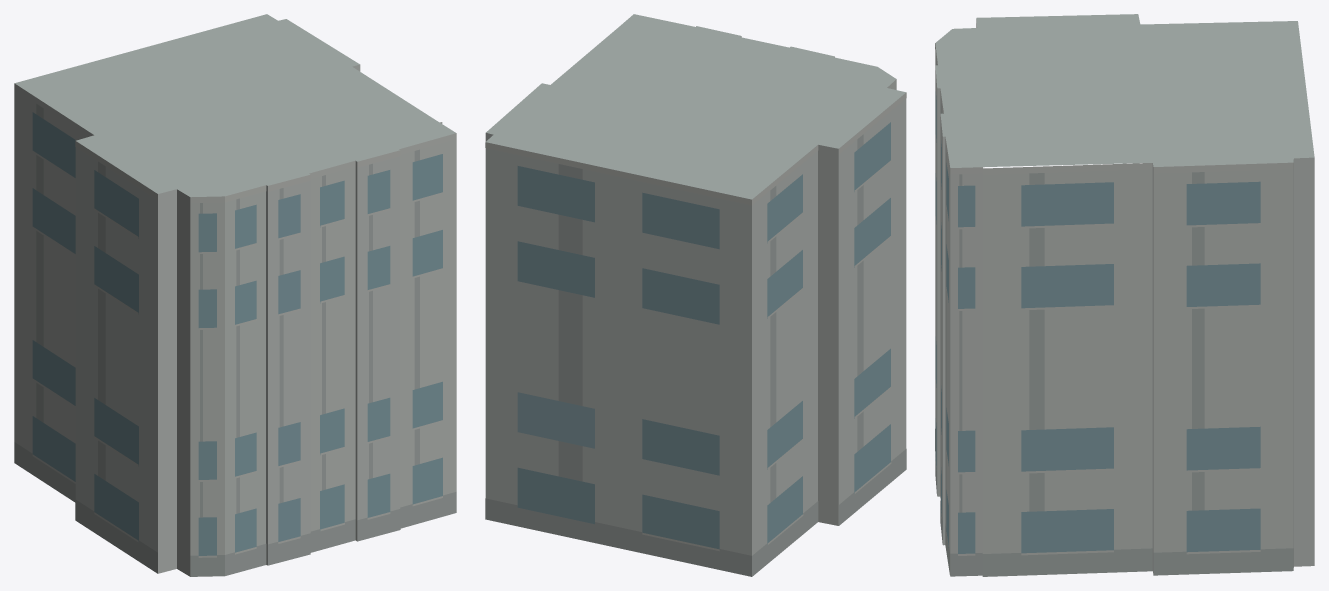
File: survey-upis-32810930.glb
3 views of the same model, side by side, from view 1: azimuth 30°, elevation 25°; view 2: azimuth 150°, elevation 25°; view 3: azimuth 270°, elevation 25° (orthographic). The views are drawn at different scales.
Visible parts, largest first — view 1: survey-upis-32810930.tmp; view 2: survey-upis-32810930.tmp; view 3: survey-upis-32810930.tmp.
Boxes of the visible parts, x1=… form: survey-upis-32810930.tmp: x1=14, y1=14, x2=456, y2=576; survey-upis-32810930.tmp: x1=485, y1=14, x2=906, y2=576; survey-upis-32810930.tmp: x1=935, y1=14, x2=1314, y2=576.
Size of the model in its own units: 12.38 by 15.25 by 12.85.
